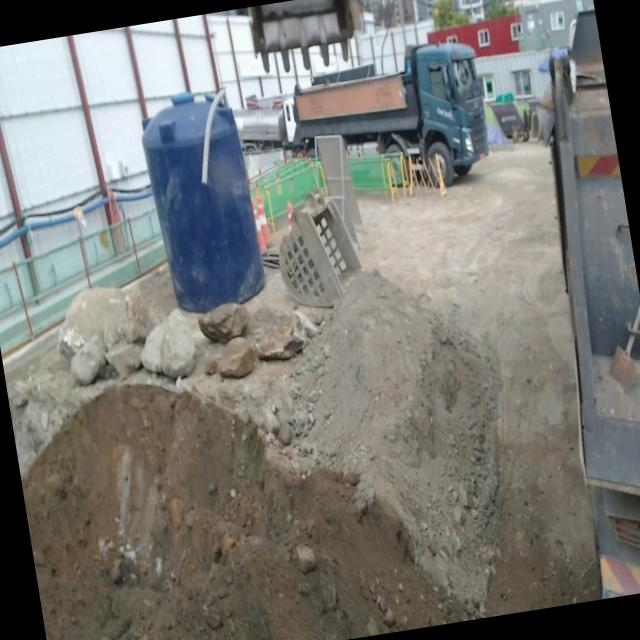red-sand: (21, 385, 458, 640)
stone: (205, 310, 319, 378), (59, 288, 164, 360), (140, 309, 196, 377), (198, 303, 249, 343), (70, 335, 106, 385), (106, 342, 143, 375)
white-sand: (360, 143, 599, 617), (195, 269, 502, 620)
